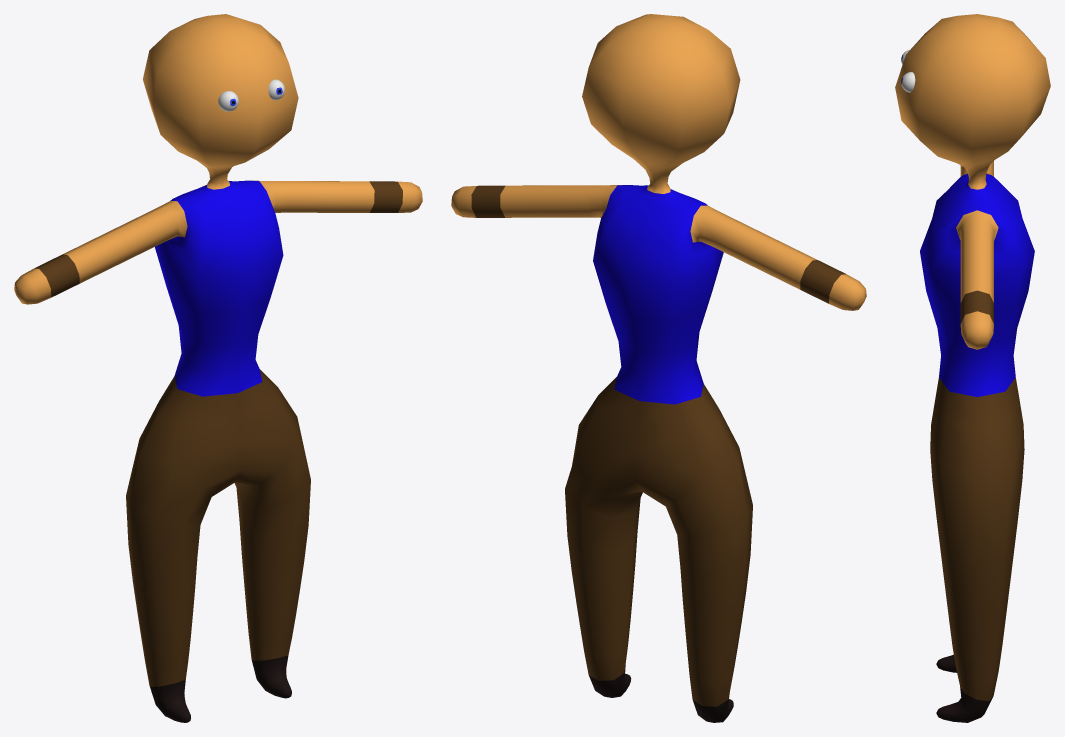
The model's file is commoner.fbx.
3 views of the same model, side by side, from view 1: azimuth 30°, elevation 25°; view 2: azimuth 150°, elevation 25°; view 3: azimuth 270°, elevation 25° (orthographic). The views are drawn at different scales.
Parts seen in each view (by area): view 1: Plane; view 2: Plane; view 3: Plane.
Part boxes in pixels (x1=…): Plane: x1=14, y1=14, x2=422, y2=722; Plane: x1=451, y1=14, x2=866, y2=722; Plane: x1=895, y1=14, x2=1050, y2=722.
Bounding box in the file's own units: 132 × 212 × 44.32.
